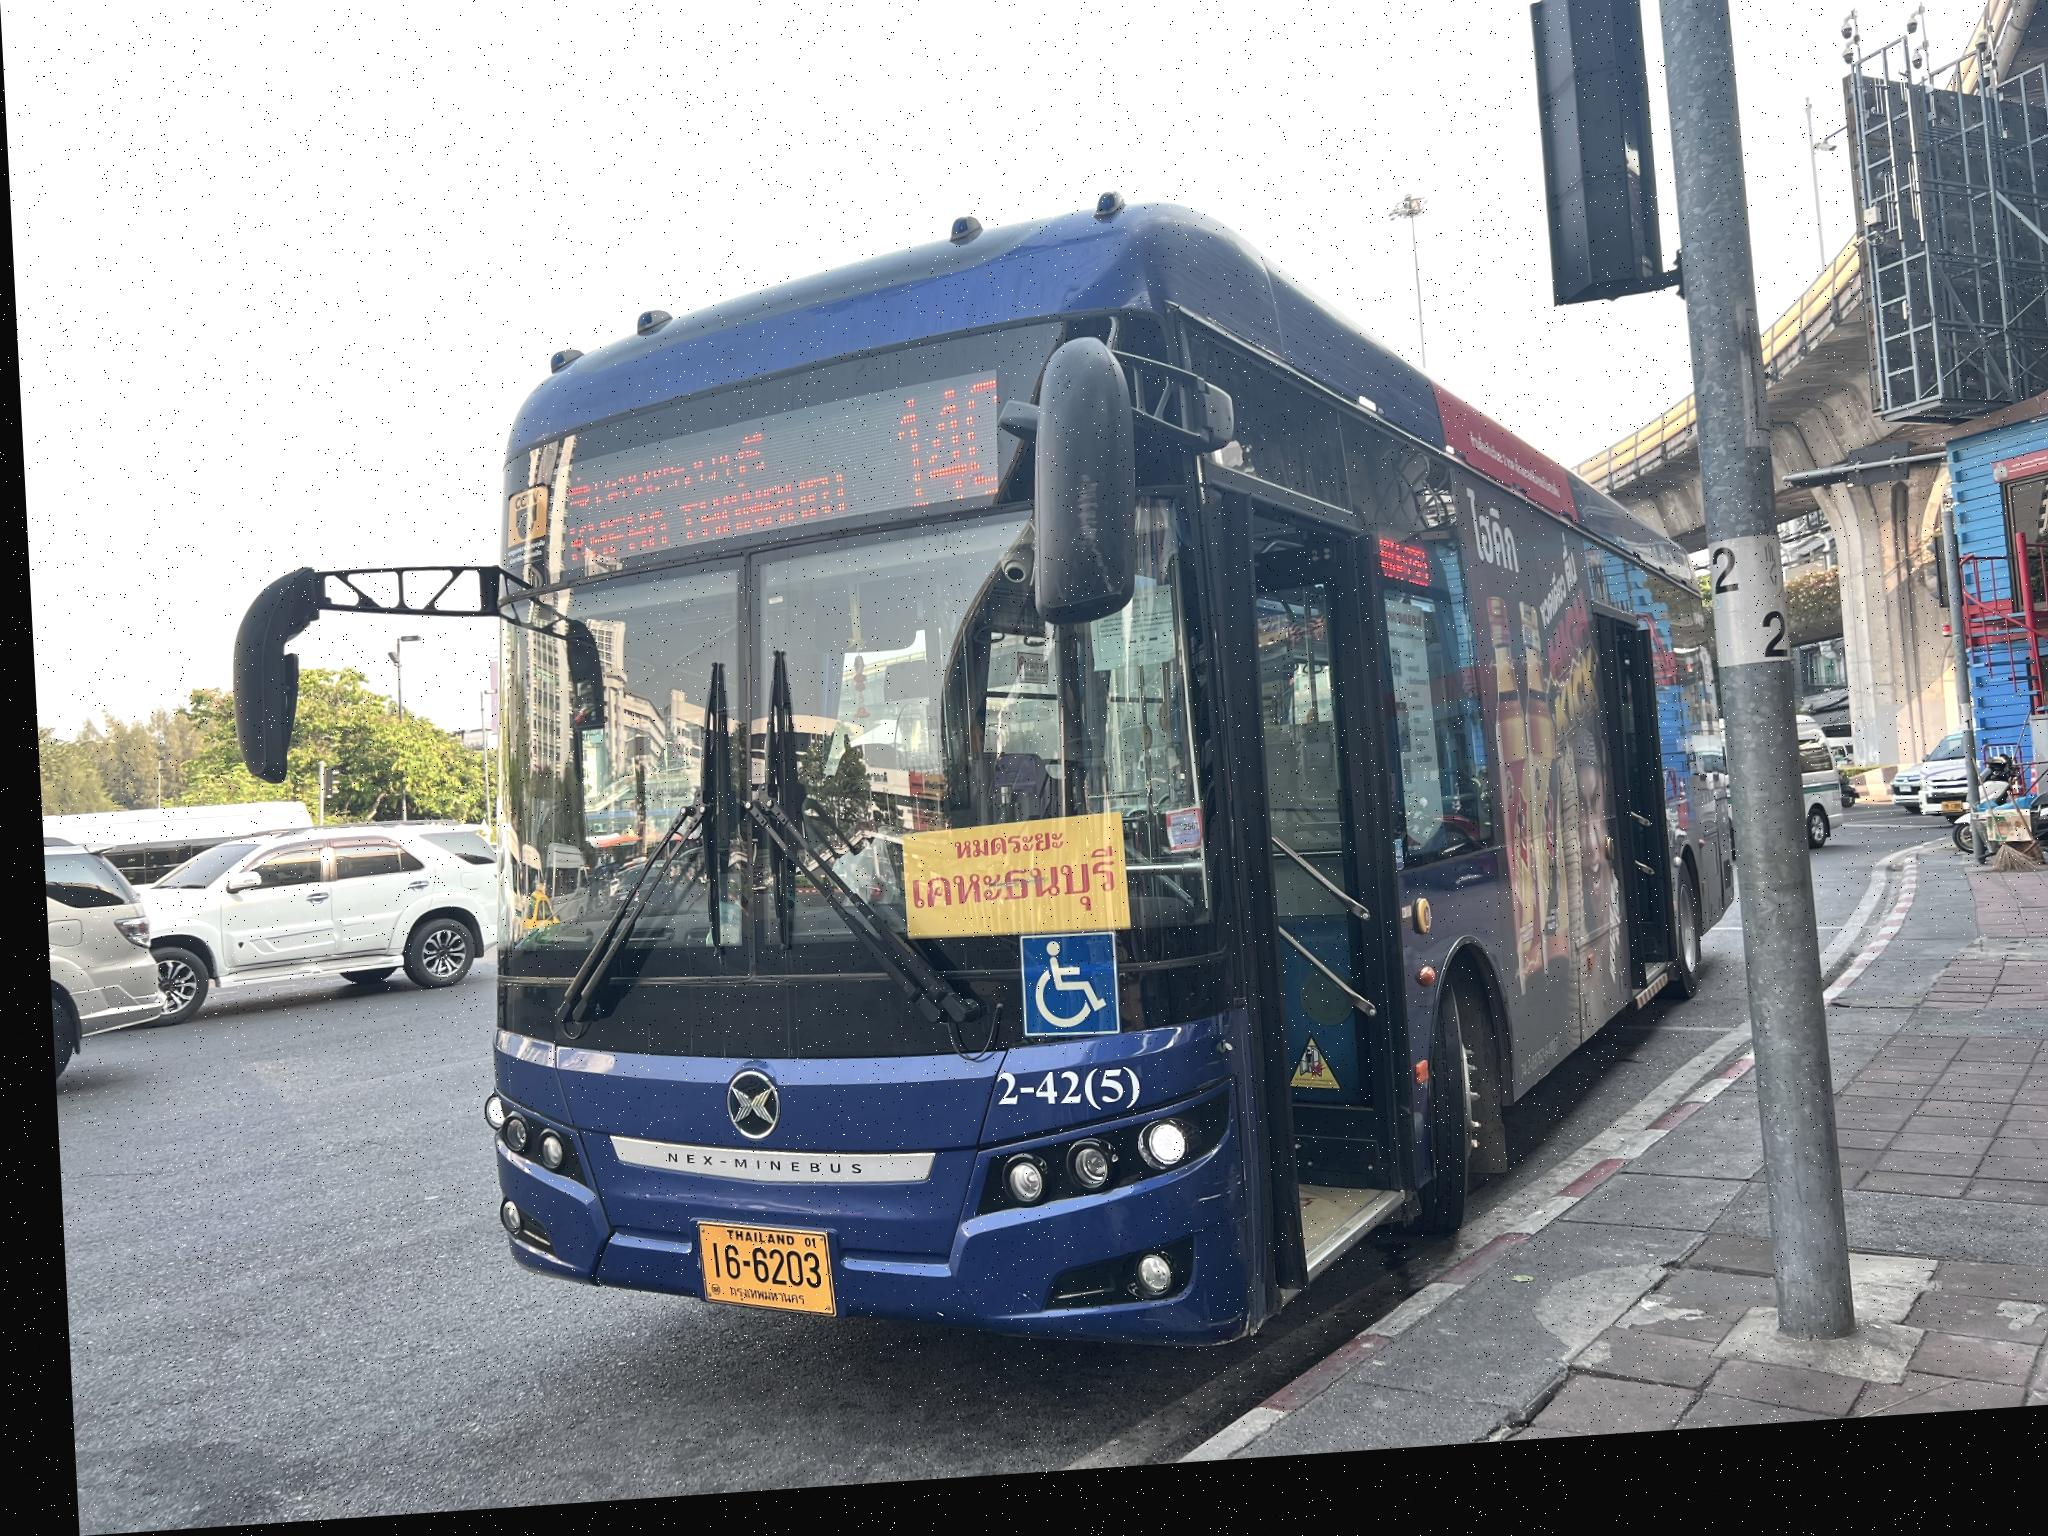Bus Line Number: (879, 369, 1008, 524)
Bus Side Number: (974, 1055, 1142, 1134)
Destination Sign: (539, 418, 863, 563), (893, 828, 1122, 954)
TSB-Bus: (472, 213, 1703, 1371)
